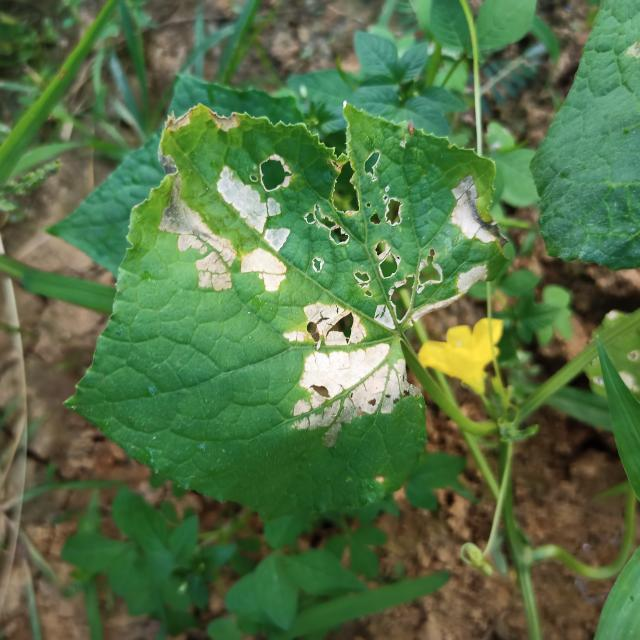disease_cucumber: (152, 118, 494, 352), (283, 340, 416, 444)
